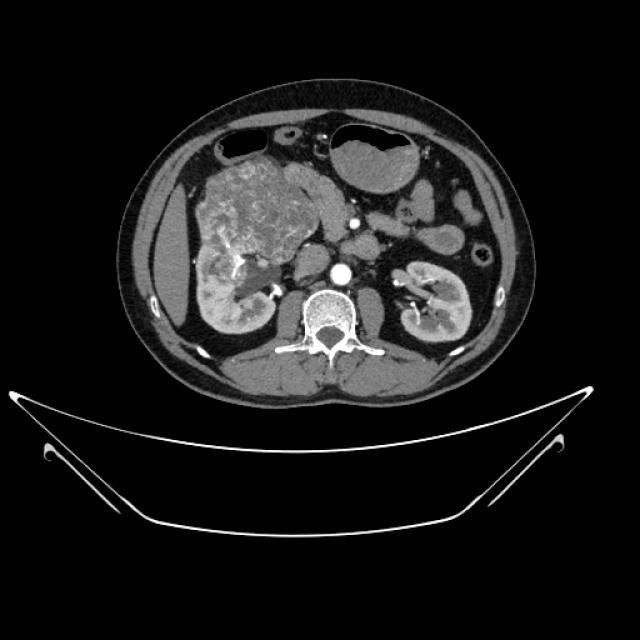Tumor: (196, 154, 304, 325)
